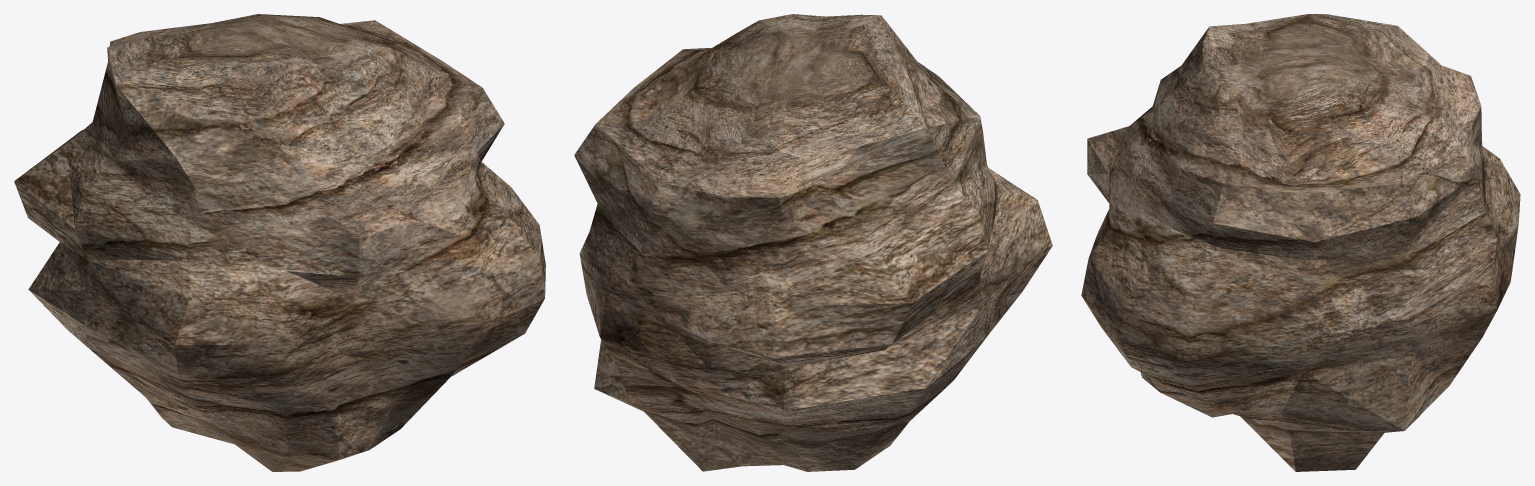
The model's file is RockMediumRound_LOD2.obj.
3 views of the same model, side by side, from view 1: azimuth 30°, elevation 25°; view 2: azimuth 150°, elevation 25°; view 3: azimuth 270°, elevation 25° (orthographic). The views are drawn at different scales.
Visible parts, largest first — view 1: RockMediumRound_LOD2; view 2: RockMediumRound_LOD2; view 3: RockMediumRound_LOD2.
Boxes of the visible parts, left/top/right/bottom form: RockMediumRound_LOD2: left=14, top=14, right=545, bottom=471; RockMediumRound_LOD2: left=574, top=14, right=1052, bottom=471; RockMediumRound_LOD2: left=1081, top=14, right=1520, bottom=471.
Bounding box in the file's own units: 2.12 × 2.2 × 2.2.
